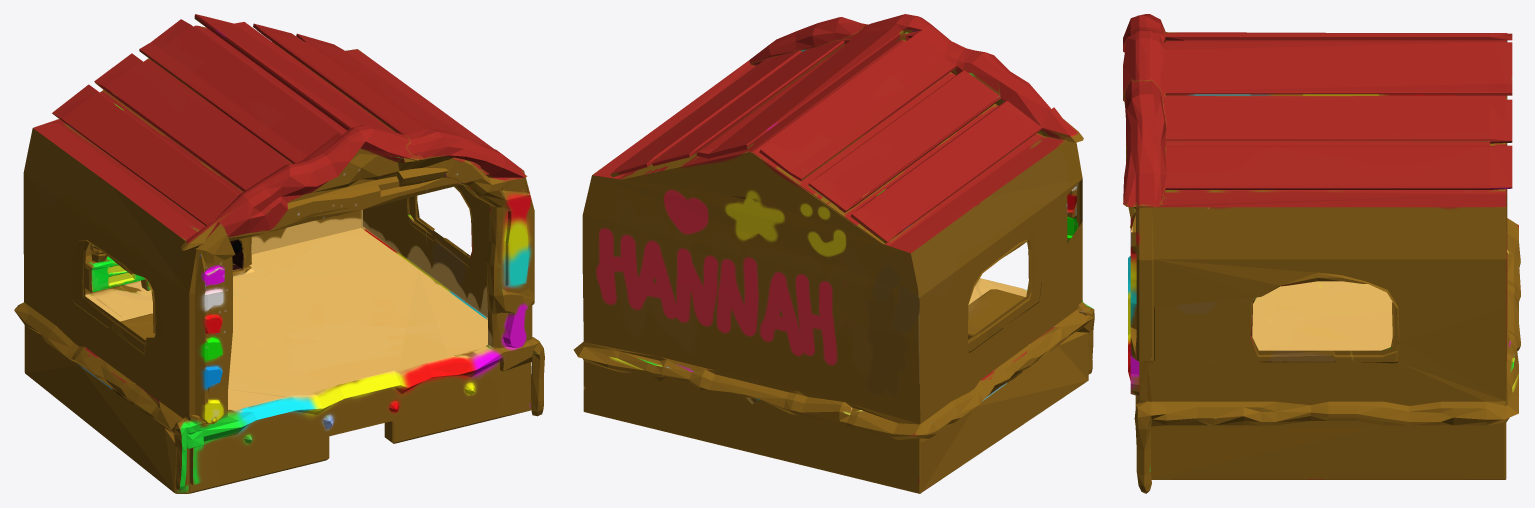
Rendered from house.glb.
3 views of the same model, side by side, from view 1: azimuth 30°, elevation 25°; view 2: azimuth 150°, elevation 25°; view 3: azimuth 270°, elevation 25° (orthographic). The views are drawn at different scales.
Visible parts, largest first — view 1: Mesh1.0; view 2: Mesh1.0; view 3: Mesh1.0.
Part boxes in pixels (x1=…): Mesh1.0: x1=14, y1=14, x2=544, y2=493; Mesh1.0: x1=573, y1=14, x2=1094, y2=493; Mesh1.0: x1=1123, y1=14, x2=1520, y2=493.
Size of the model in its own units: 1.91 by 1.64 by 1.62.
Materials: 3 (3 with a texture image).
